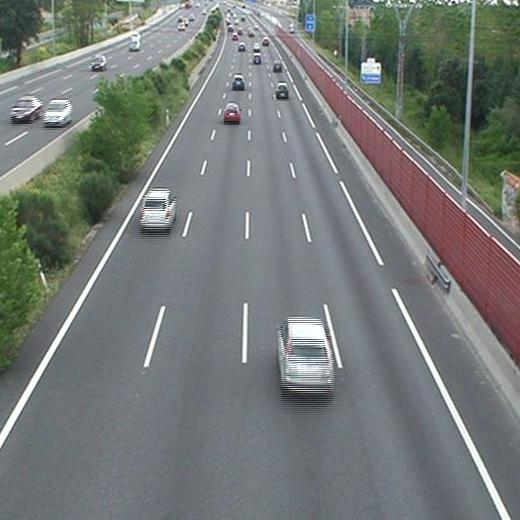car: (278, 318, 333, 392), (140, 192, 175, 227), (224, 104, 240, 122), (276, 83, 288, 97), (232, 76, 244, 90), (272, 61, 282, 71), (252, 54, 261, 63), (237, 42, 245, 51), (253, 42, 260, 51)
